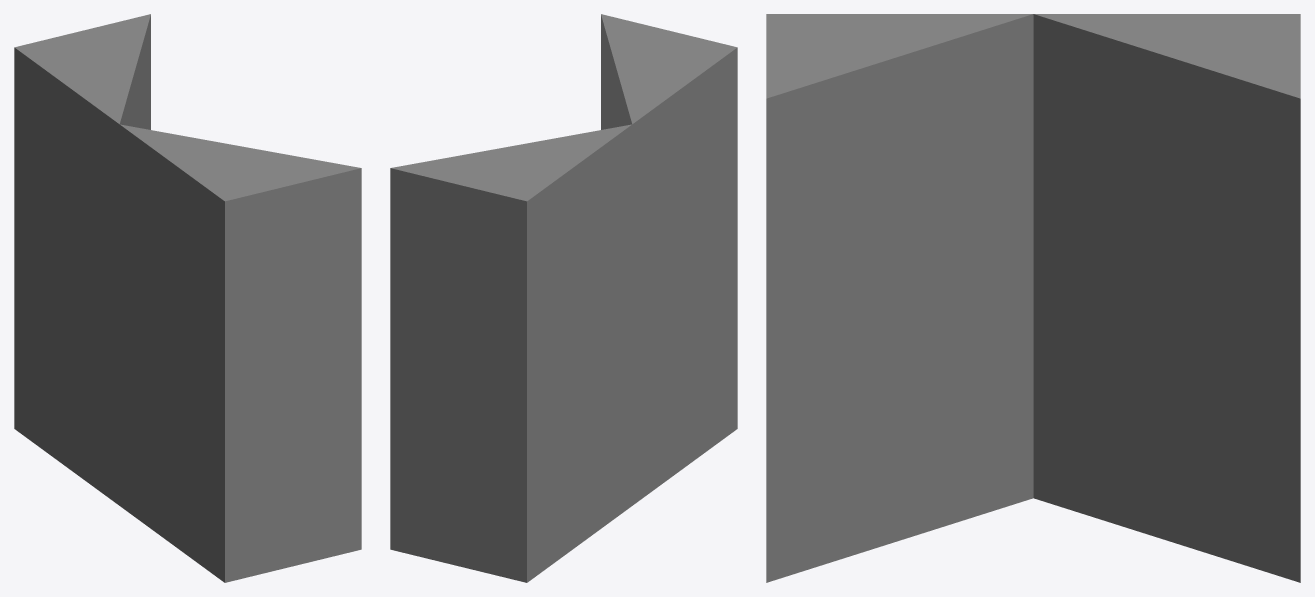
Rendered from r3c7_body_grey.gltf.
3 views of the same model, side by side, from view 1: azimuth 30°, elevation 25°; view 2: azimuth 150°, elevation 25°; view 3: azimuth 270°, elevation 25° (orthographic). The views are drawn at different scales.
Visible parts, largest first — view 1: r3c7_body_grey; view 2: r3c7_body_grey; view 3: r3c7_body_grey.
Boxes of the visible parts, left/top/right/bottom form: r3c7_body_grey: left=14, top=14, right=361, bottom=582; r3c7_body_grey: left=390, top=14, right=737, bottom=582; r3c7_body_grey: left=766, top=14, right=1300, bottom=582.
Size of what is drawn, in the model's own units: 0.75 by 2 by 2.
1 material, 1 textured.
